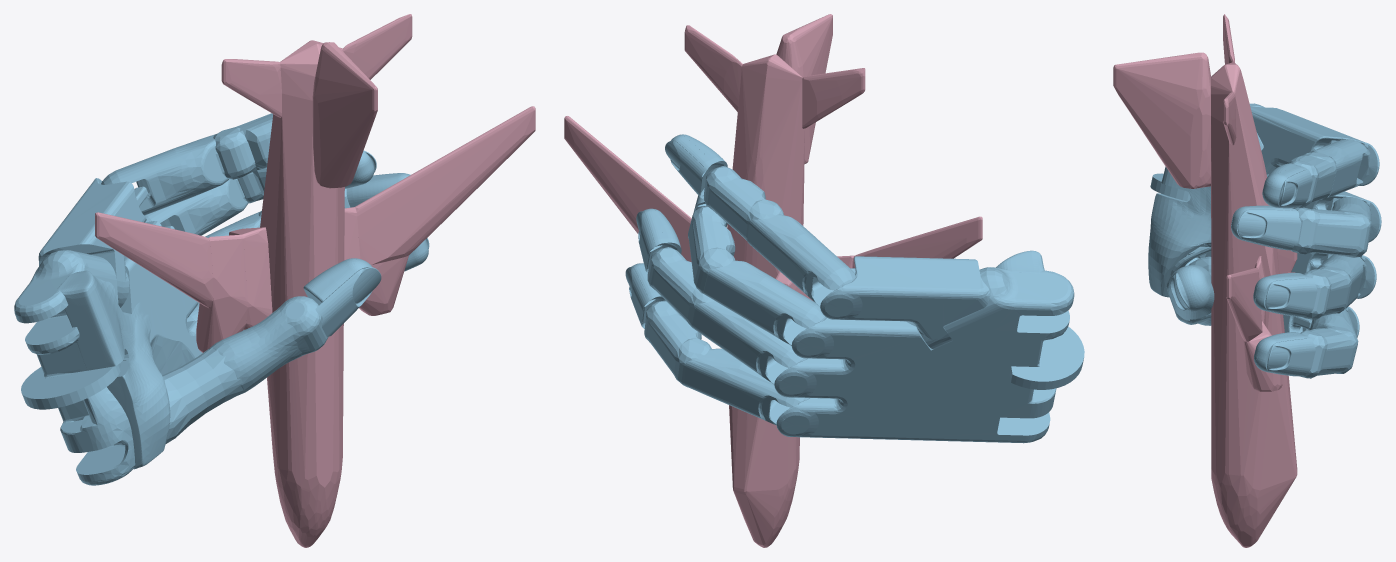
The picture shows the model from 3 angles, left to right: view 1: azimuth 30°, elevation 25°; view 2: azimuth 150°, elevation 25°; view 3: azimuth 270°, elevation 25°; orthographic projection. The views are drawn at different scales.
Parts seen in each view (by area): view 1: world, hand_isaac_q; view 2: hand_isaac_q, world; view 3: world, hand_isaac_q.
Part boxes in pixels (box(x1,y1,x2,y2)): world: box(95, 14, 535, 547); hand_isaac_q: box(14, 113, 429, 485); hand_isaac_q: box(625, 134, 1084, 443); world: box(564, 14, 982, 547); world: box(1113, 14, 1297, 547); hand_isaac_q: box(1148, 103, 1381, 378).
Bounding box in the file's own units: 0.2318 × 0.2206 × 0.1084.
